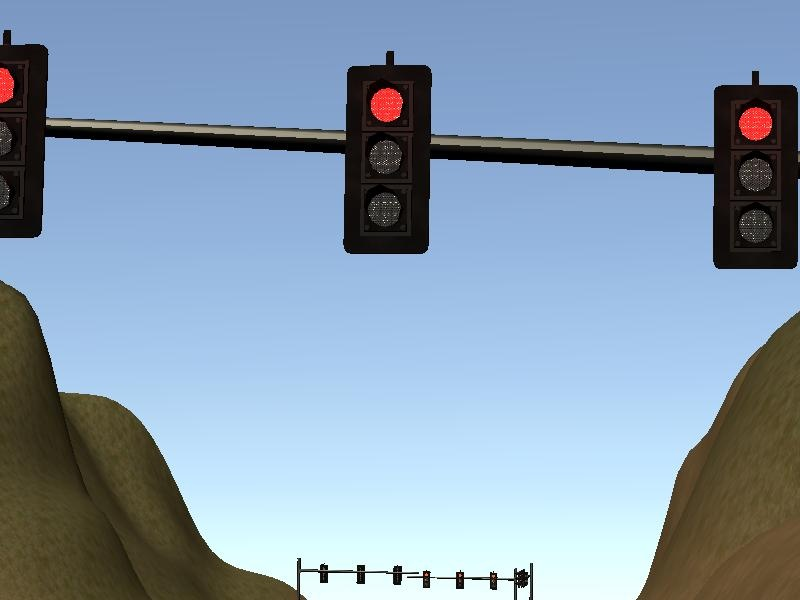RED: (344, 63, 432, 255), (711, 84, 799, 272)
